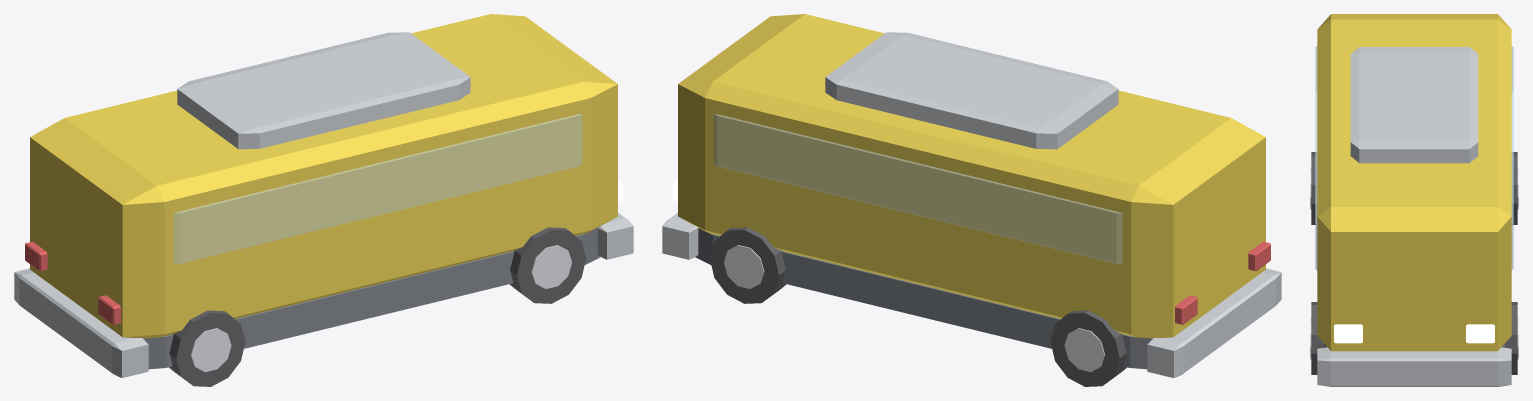
Rendered from b15_short_school_bus.glb.
3 renders of one model, left to right at view 1: azimuth 30°, elevation 25°; view 2: azimuth 150°, elevation 25°; view 3: azimuth 270°, elevation 25°, orthographic. The views are drawn at different scales.
Visible parts, largest first — view 1: b15_short_school_bus; view 2: b15_short_school_bus; view 3: b15_short_school_bus.
Boxes of the visible parts, bbox=[...] form: b15_short_school_bus: bbox=[14, 14, 633, 386]; b15_short_school_bus: bbox=[662, 14, 1281, 386]; b15_short_school_bus: bbox=[1310, 14, 1518, 386].
Size of the model in its own units: 7.74 by 3.18 by 3.01.
